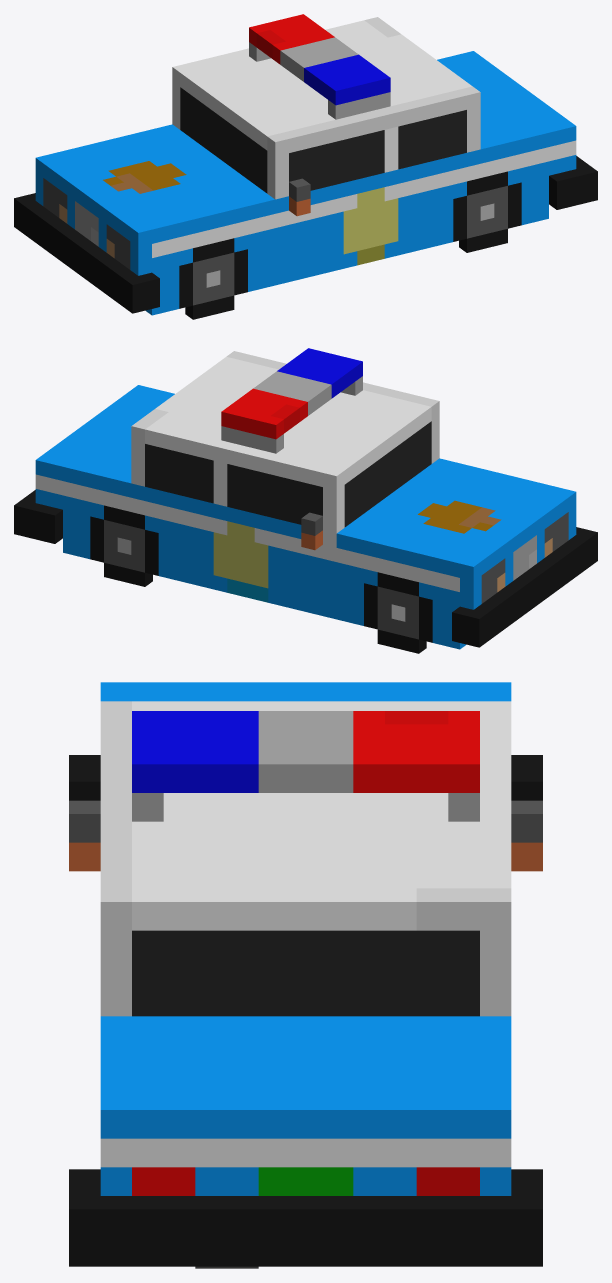
File: car_01.glb
3 renders of one model, top to bottom at view 1: azimuth 30°, elevation 25°; view 2: azimuth 150°, elevation 25°; view 3: azimuth 270°, elevation 25°, orthographic. The views are drawn at different scales.
Visible parts, largest first — view 1: ObjObject; view 2: ObjObject; view 3: ObjObject.
Boxes of the visible parts, x1,y1,x2,y2 form: ObjObject: [14, 14, 597, 319]; ObjObject: [14, 348, 597, 653]; ObjObject: [69, 682, 542, 1268].
Bounding box in the file's own units: 3.4 × 1.3 × 1.5.
1 material, 1 textured.
